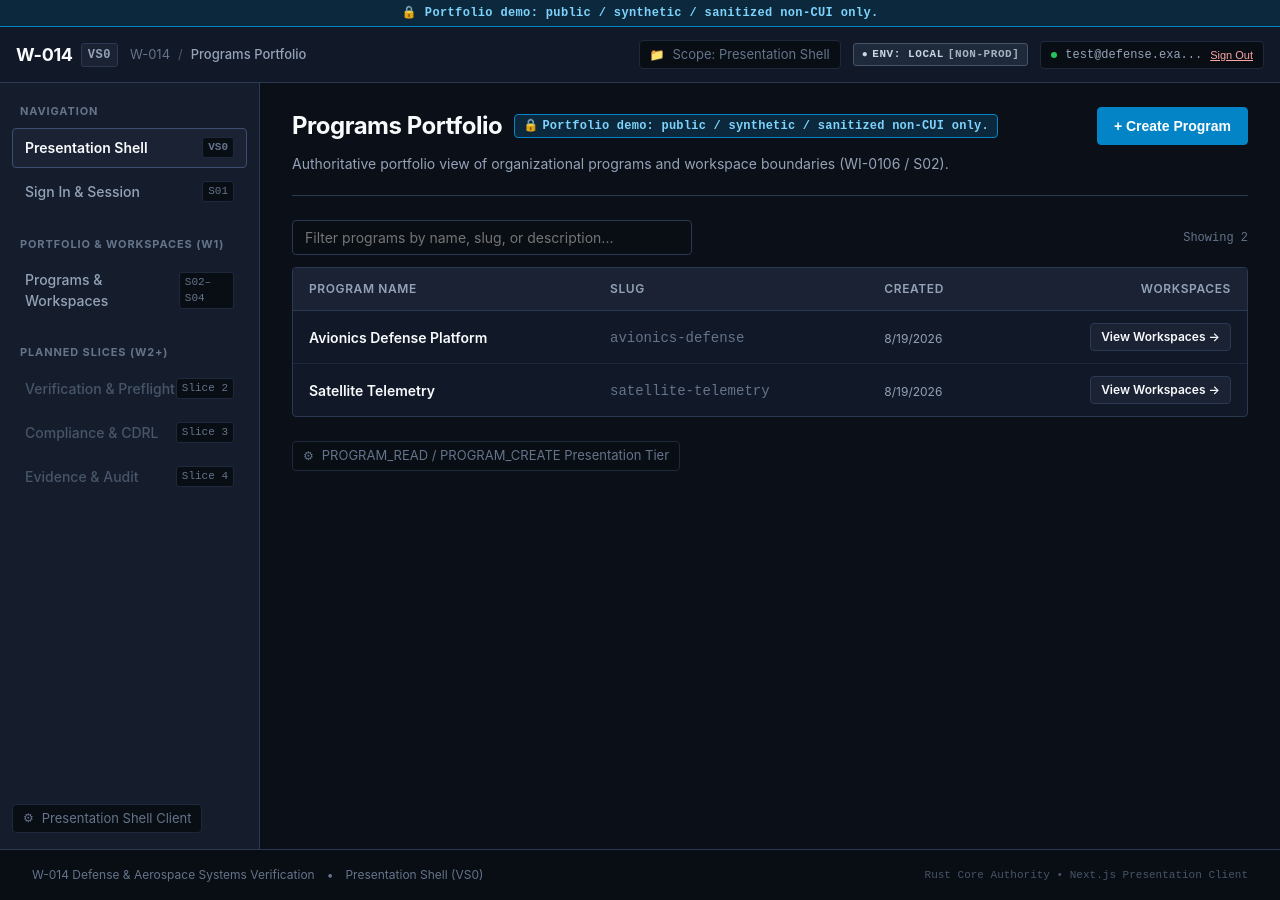
Scenario: S02: Programs Portfolio Page › filters program items based on FilterBar query
This screenshot has width=1280, height=900.
Check: the text "Avionics Defense Platform" is shown, box [309,329,487,346]
Type "satellite" into the search field.
click(492, 238); type("satellite")  # box [292,220,692,255]
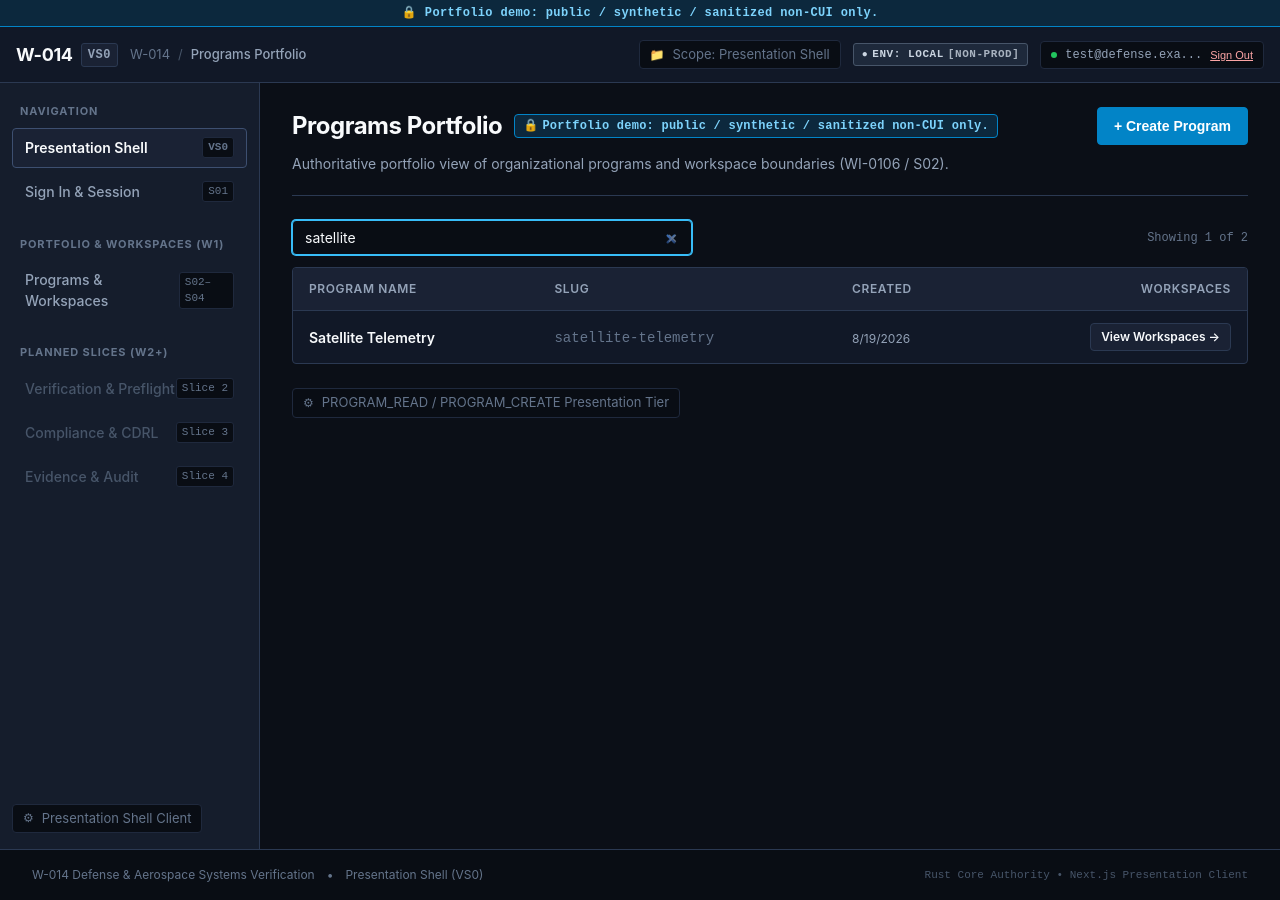
Check: the text "Satellite Telemetry" is shown, box [309,329,435,346]
Check: the text "Avionics Defense Platform" is gone
